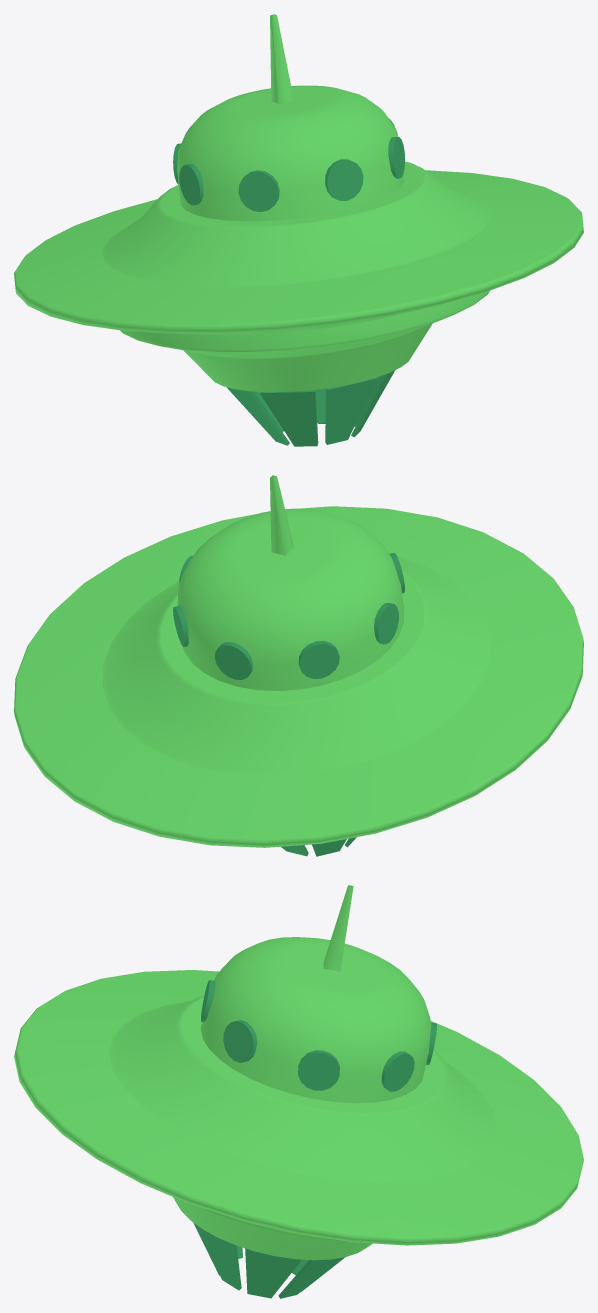
File: contact_04.glb
The picture shows the model from 3 angles, top to bottom: view 1: azimuth 30°, elevation 25°; view 2: azimuth 150°, elevation 25°; view 3: azimuth 270°, elevation 25°; orthographic projection.
Visible parts, largest first — view 1: ufo.002, windows, thruster_06, thruster_07, thruster_05, thruster_08; view 2: ufo.002, windows; view 3: ufo.002, windows, thruster_01, thruster_08, thruster_02.
Boxes of the visible parts, x1,y1,x2,y2 form: ufo.002: [14, 14, 583, 392]; windows: [173, 118, 404, 212]; thruster_06: [259, 389, 318, 446]; thruster_07: [325, 377, 377, 444]; thruster_05: [226, 387, 289, 445]; thruster_08: [351, 370, 394, 437]; ufo.002: [14, 475, 583, 847]; windows: [173, 553, 404, 679]; ufo.002: [14, 885, 583, 1260]; windows: [201, 980, 436, 1091]; thruster_01: [245, 1248, 301, 1298]; thruster_08: [196, 1224, 241, 1290]; thruster_02: [278, 1257, 344, 1298].
Bounding box in the file's own units: 1.03 × 0.7794 × 1.01.
